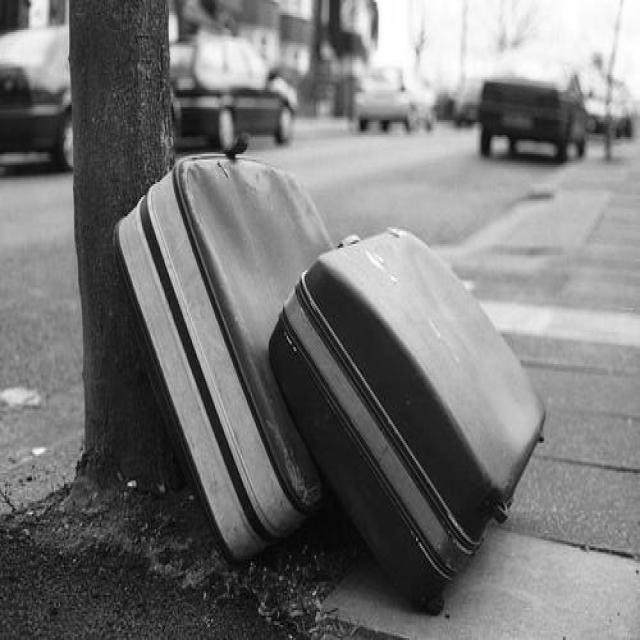vehicle: (169, 28, 300, 150), (474, 45, 590, 157), (0, 27, 76, 173), (351, 66, 438, 136), (584, 87, 634, 139), (453, 81, 481, 125)
